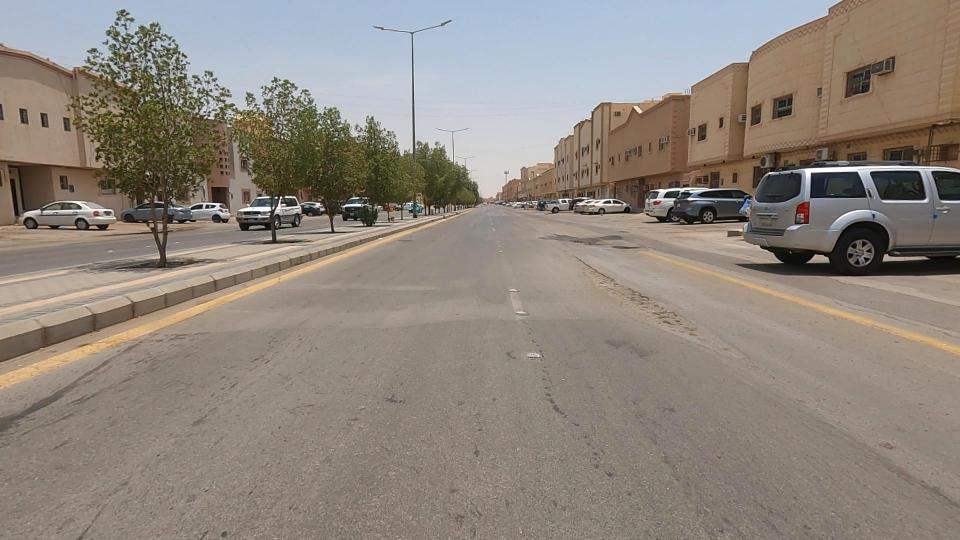POTHOLES: (509, 225, 765, 369)
